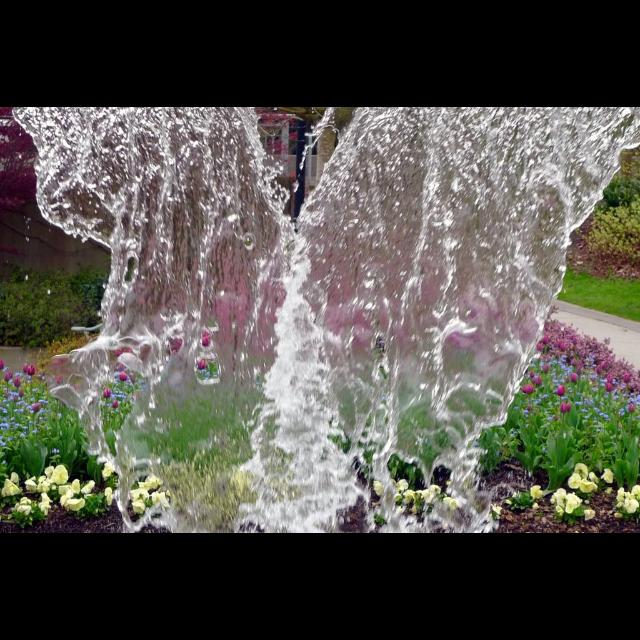Flower: (532, 464, 640, 518), (0, 466, 92, 516), (374, 477, 462, 513), (126, 480, 168, 514), (104, 486, 115, 502), (556, 384, 570, 396), (104, 464, 112, 480), (13, 377, 21, 387), (102, 389, 110, 399), (569, 374, 577, 384), (114, 398, 120, 410), (199, 338, 207, 347), (542, 333, 550, 342), (560, 402, 566, 413), (32, 405, 40, 413), (120, 373, 128, 381), (28, 366, 34, 376), (199, 360, 205, 370), (4, 373, 10, 381), (544, 365, 550, 373), (626, 372, 630, 384), (23, 364, 27, 374), (528, 385, 532, 395), (597, 368, 603, 374), (607, 376, 613, 382), (560, 344, 564, 352), (630, 405, 634, 413), (520, 388, 526, 392), (529, 373, 535, 377), (536, 345, 542, 349), (538, 377, 542, 383), (578, 362, 582, 368), (606, 387, 612, 391), (0, 360, 2, 370), (12, 374, 12, 378), (578, 368, 578, 372)
